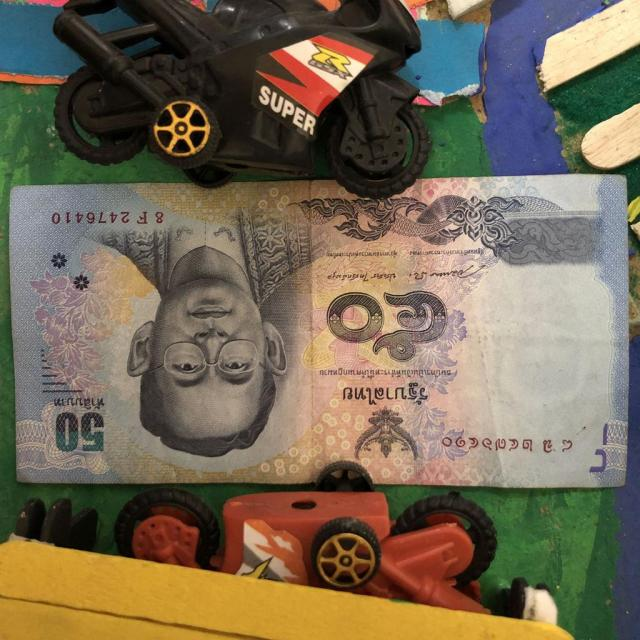THAI50: (8, 174, 629, 491)
